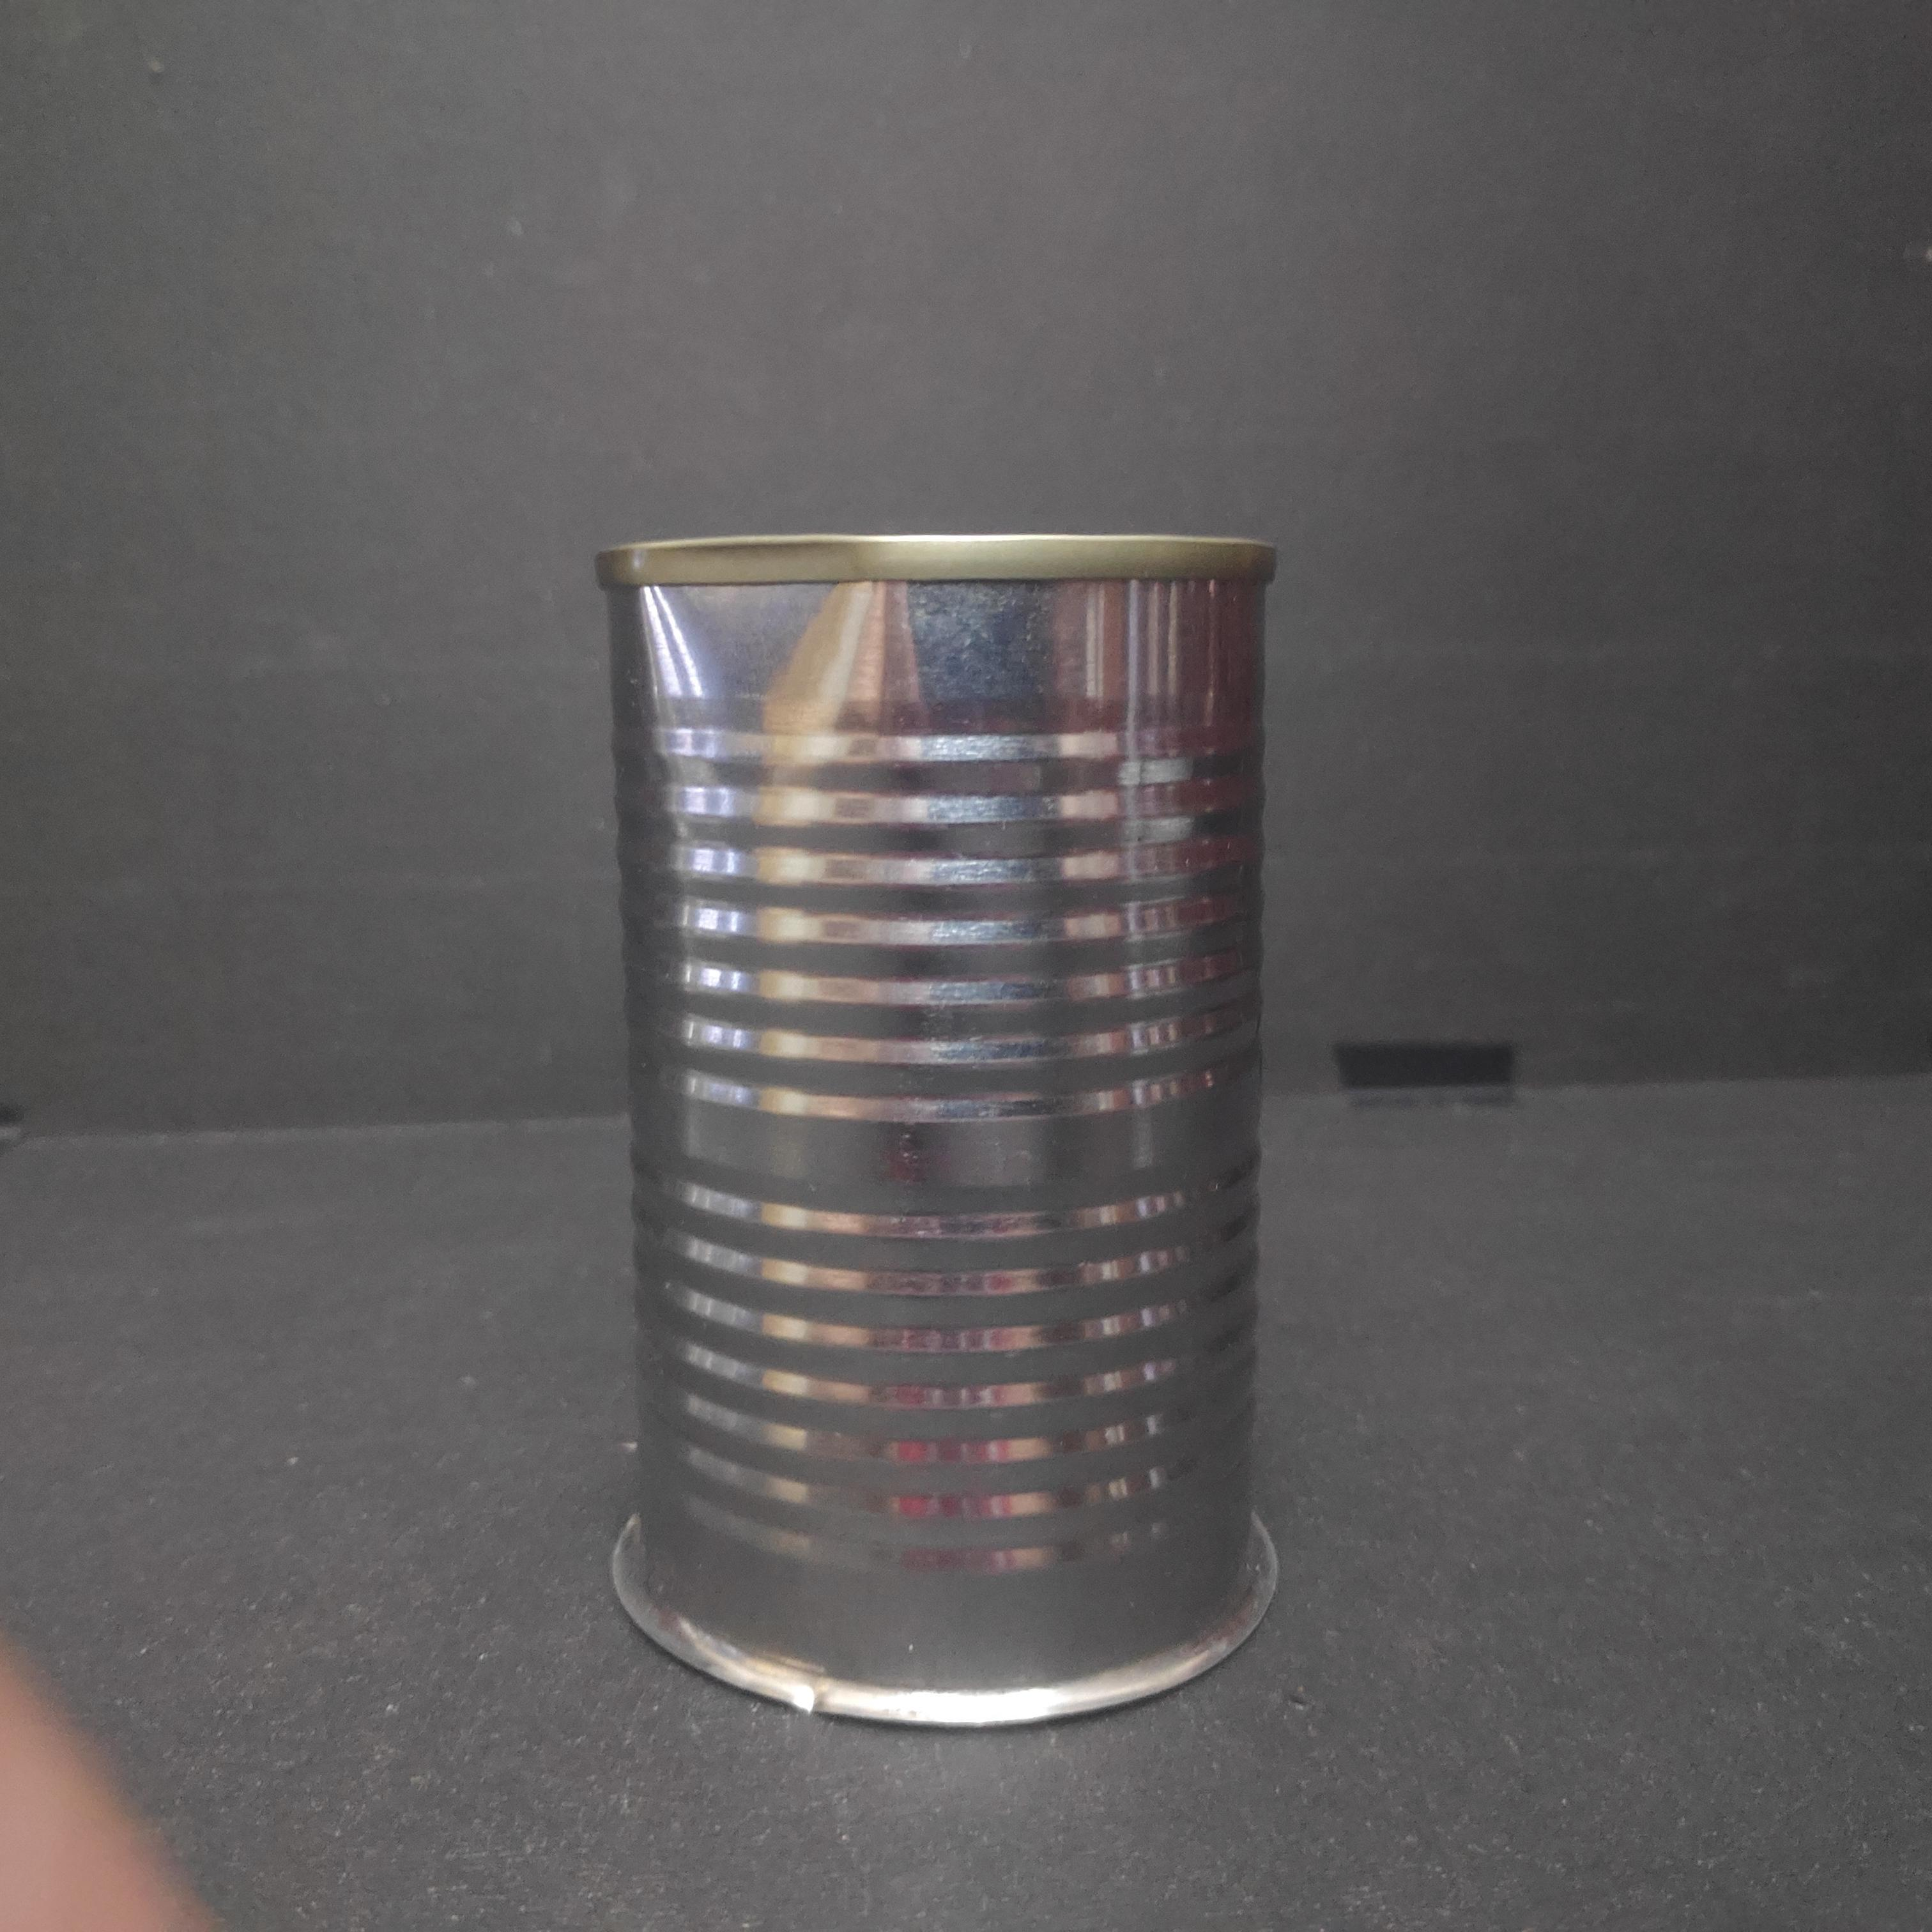Dented: (568, 508, 1309, 1737)
